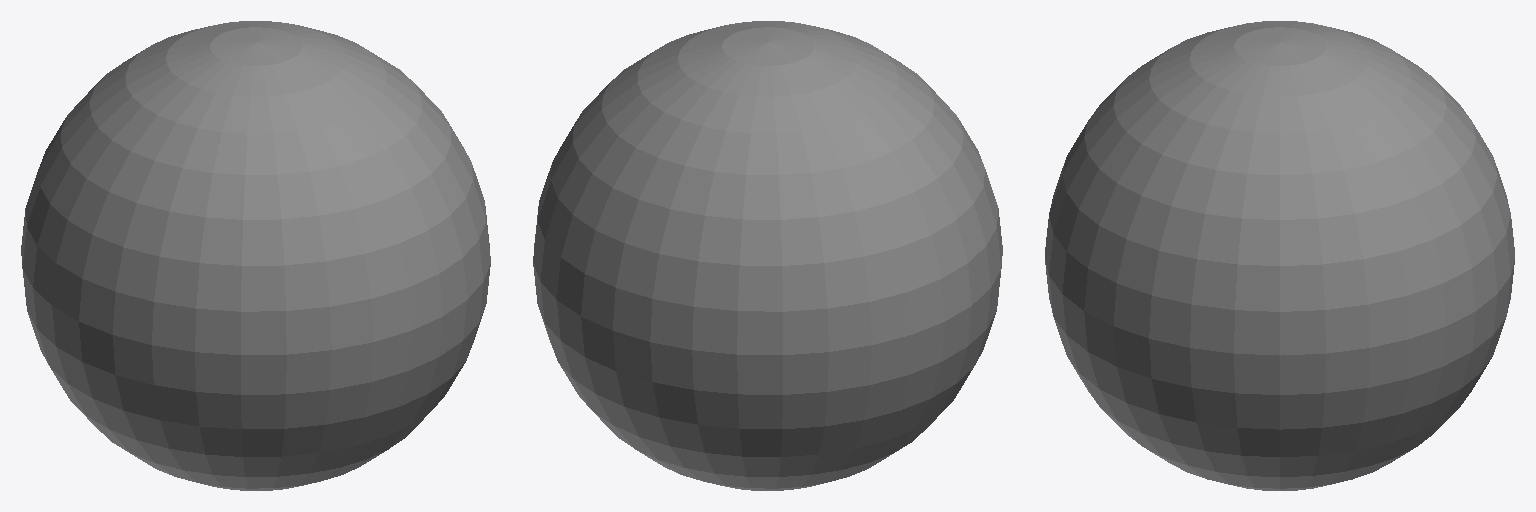
The model's file is ballwhite.obj.
3 renders of one model, left to right at view 1: azimuth 30°, elevation 25°; view 2: azimuth 150°, elevation 25°; view 3: azimuth 270°, elevation 25°, orthographic.
Parts seen in each view (by area): view 1: Ball_Clube_Mesh.011; view 2: Ball_Clube_Mesh.011; view 3: Ball_Clube_Mesh.011.
Boxes of the visible parts, x1=… form: Ball_Clube_Mesh.011: x1=21, y1=21, x2=490, y2=490; Ball_Clube_Mesh.011: x1=533, y1=21, x2=1002, y2=490; Ball_Clube_Mesh.011: x1=1045, y1=21, x2=1514, y2=490.
Bounding box in the file's own units: 0.9617 × 0.9617 × 0.9617.